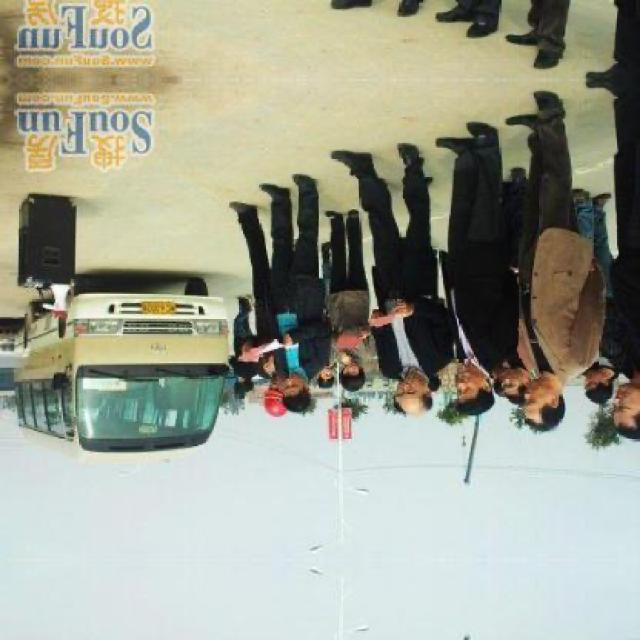sin casco: (366, 343, 432, 422), (445, 339, 503, 424), (269, 358, 326, 416), (540, 374, 580, 443)
